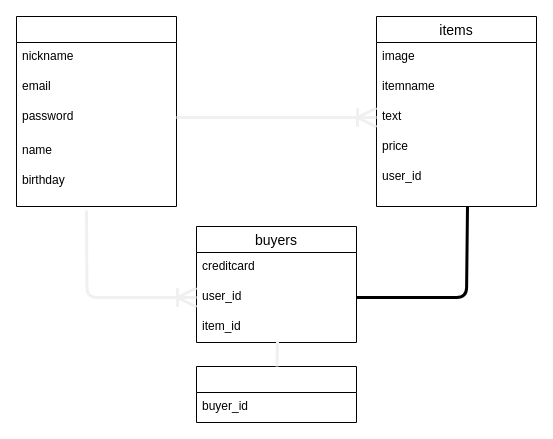
This 553x439 diagram has some shape labels left out. Each missing label, with the box of its shape:
adresses: (196, 366, 356, 422)
users: (16, 16, 176, 206)
